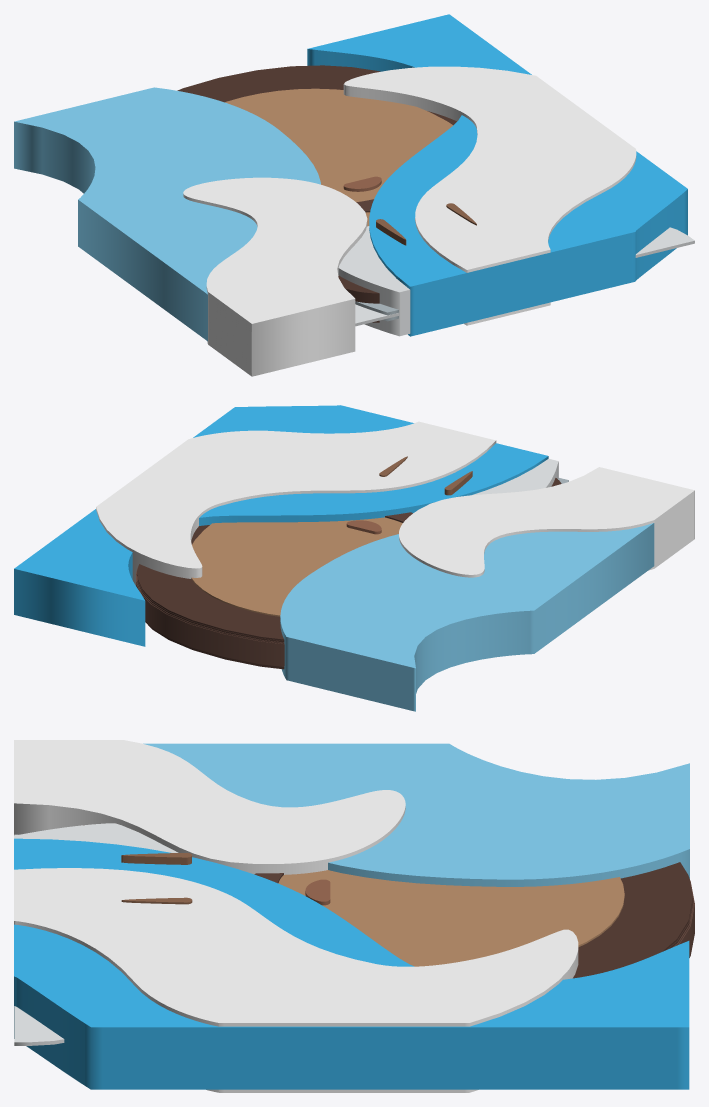
Rendered from emoji_u1f9d6_1f3fd_200d_2640.glb.
3 renders of one model, top to bottom at view 1: azimuth 30°, elevation 25°; view 2: azimuth 150°, elevation 25°; view 3: azimuth 270°, elevation 25°, orthographic. The views are drawn at different scales.
Parts seen in each view (by area): view 1: emoji_u1f9d6_1f3fd_200d_2640; view 2: emoji_u1f9d6_1f3fd_200d_2640; view 3: emoji_u1f9d6_1f3fd_200d_2640.
Boxes of the visible parts, x1,y1,x2,y2 form: emoji_u1f9d6_1f3fd_200d_2640: (14, 14, 694, 376); emoji_u1f9d6_1f3fd_200d_2640: (14, 405, 694, 711); emoji_u1f9d6_1f3fd_200d_2640: (14, 740, 694, 1092).
Bounding box in the file's own units: 0.0333 × 0.0042 × 0.0336.
